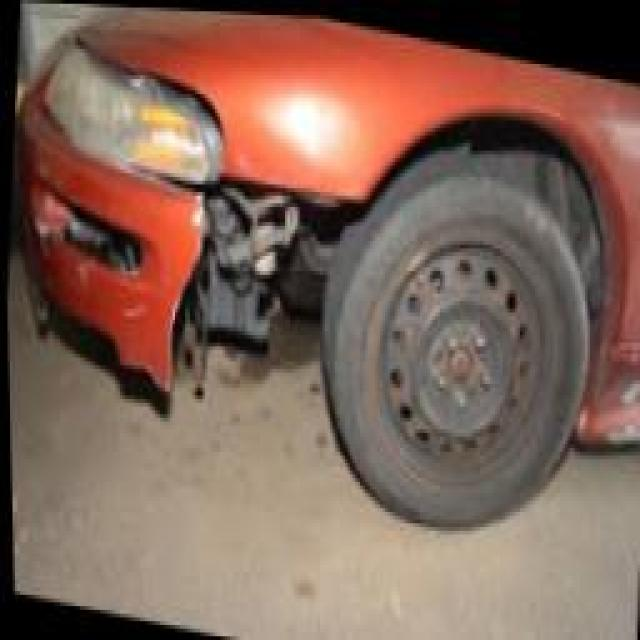Bumper: (8, 97, 345, 394)
Light: (33, 42, 227, 173)
